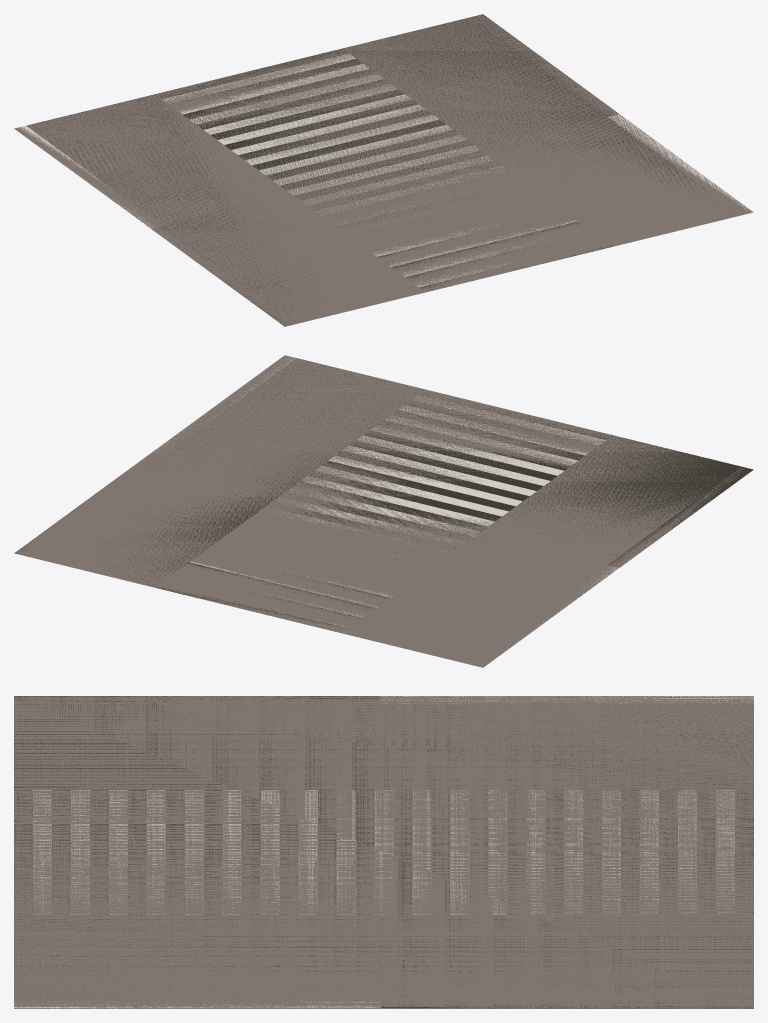
Rendered from Env_3lane_Crosswalk.fbx.
The picture shows the model from 3 angles, top to bottom: view 1: azimuth 30°, elevation 25°; view 2: azimuth 150°, elevation 25°; view 3: azimuth 270°, elevation 25°; orthographic projection. The views are drawn at different scales.
Visible parts, largest first — view 1: Env_3lane_Crosswalk; view 2: Env_3lane_Crosswalk; view 3: Env_3lane_Crosswalk.
Boxes of the visible parts, left/top/right/bottom form: Env_3lane_Crosswalk: left=14, top=14, right=753, bottom=326; Env_3lane_Crosswalk: left=14, top=355, right=753, bottom=667; Env_3lane_Crosswalk: left=14, top=696, right=753, bottom=1008.
Size of the model in its own units: 2000 by 0 by 2000.
